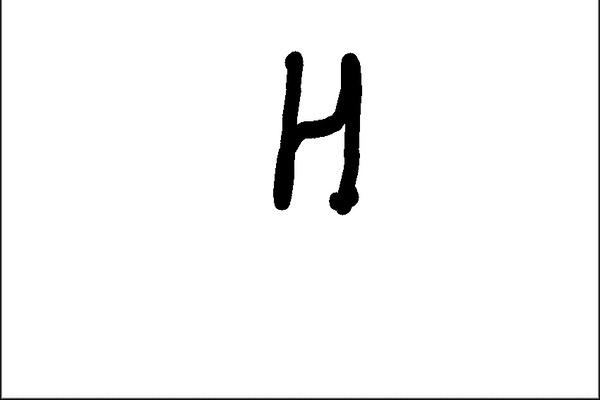H: (261, 43, 372, 224)
